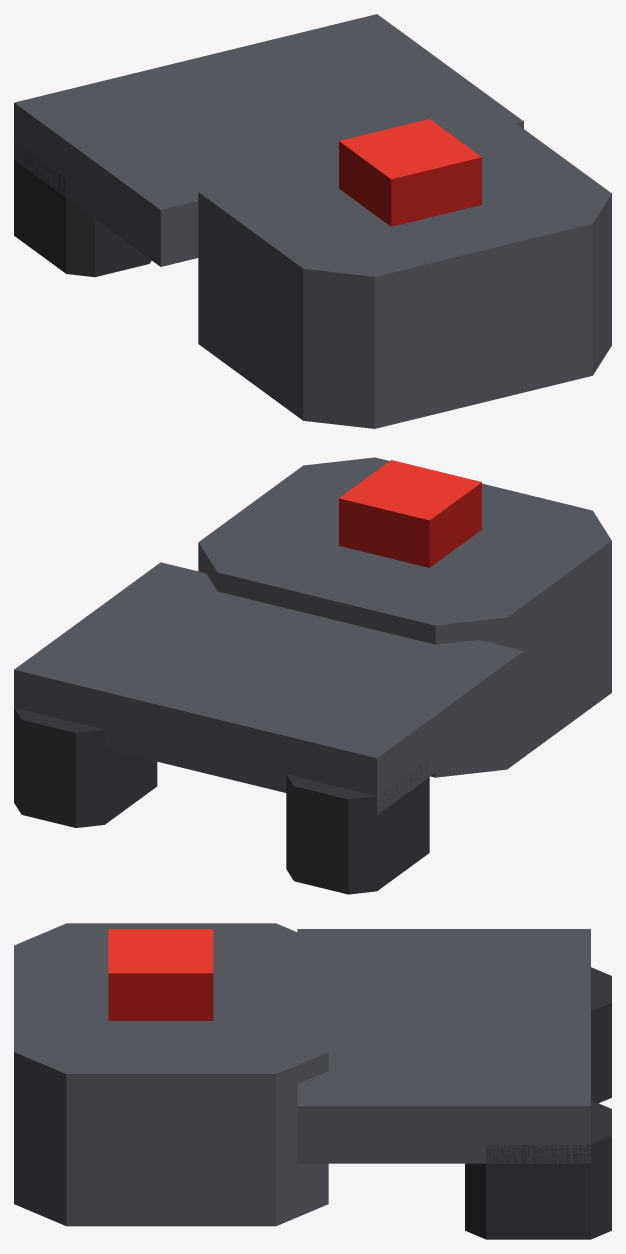
The model's file is pz_lift_top.obj.
The picture shows the model from 3 angles, top to bottom: view 1: azimuth 30°, elevation 25°; view 2: azimuth 150°, elevation 25°; view 3: azimuth 270°, elevation 25°; orthographic projection.
Visible parts, largest first — view 1: pz_lift_top; view 2: pz_lift_top; view 3: pz_lift_top.
Part boxes in pixels (x1,y1,x2,y2): pz_lift_top: [14, 14, 611, 428]; pz_lift_top: [14, 457, 611, 894]; pz_lift_top: [14, 923, 611, 1239].
Size of the model in its own units: 0.4 by 0.21 by 0.57.
